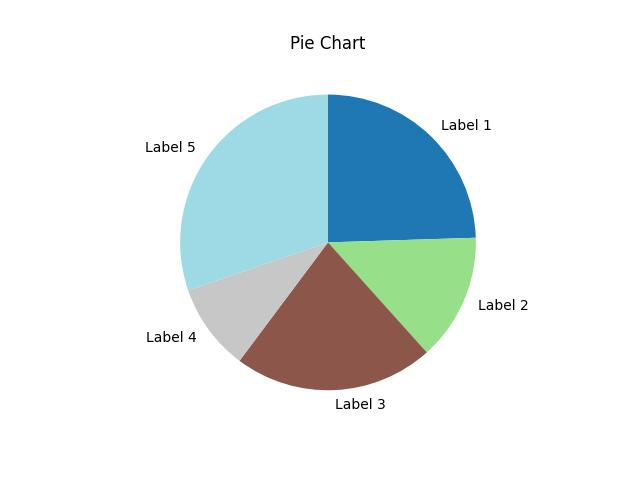sector: (178, 93, 329, 291), (239, 245, 426, 394), (329, 91, 475, 243), (327, 236, 477, 355), (183, 242, 327, 363)
